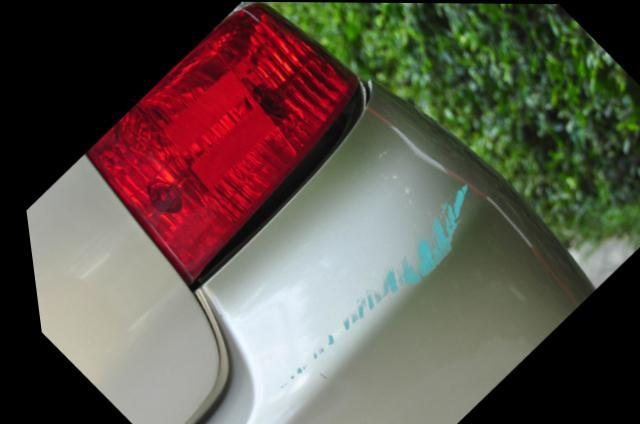scratch: (271, 180, 466, 386)
